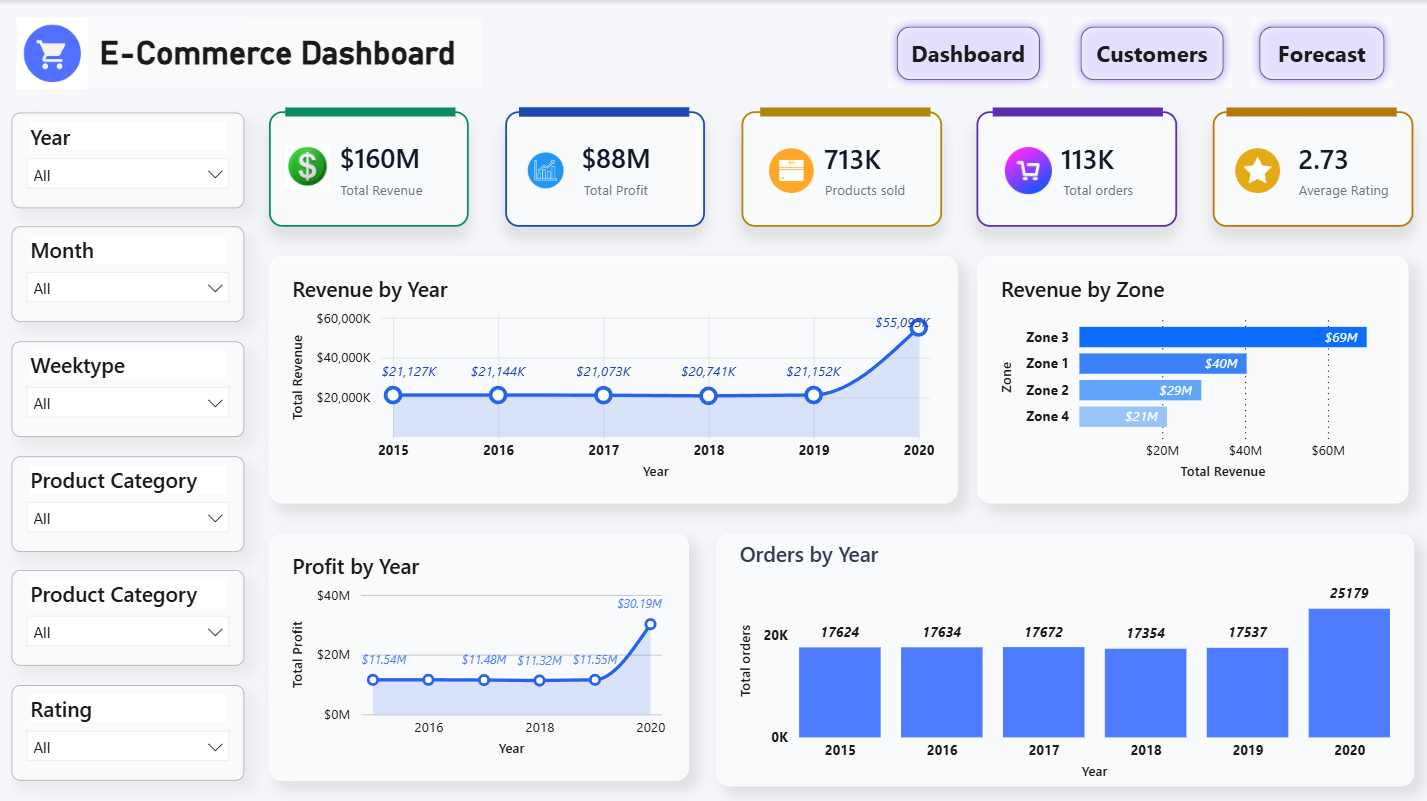

What the dashboard file says about the page in this screenshot:
{"tool":"powerbi","page":{"name":"Dashboard","canvas":[1280,720],"ordinal":0},"visuals":[{"type":"slicer","fields":{"Values":["Fact -Ecommerce.Rating"]},"box":[11.1,611.9,208.2,85.8],"z":0},{"type":"slicer","fields":{"Values":["Dim-category.Product Category"]},"box":[11.1,407.2,208.2,85.8],"z":1000},{"type":"slicer","fields":{"Values":["Dim Calendar.Weektype"]},"box":[11.1,304.8,208.2,85.8],"z":2000},{"type":"slicer","fields":{"Values":["Dim Calendar.Month"]},"box":[11.1,202.5,208.2,85.8],"z":3000},{"type":"slicer","fields":{"Values":["Dim Calendar.Year"]},"box":[11.1,100.1,208.2,85.8],"z":4000},{"type":"slicer","fields":{"Values":["Dim-category.Product Category"]},"box":[11.1,509.6,208.2,85.8],"z":5000},{"type":"card","fields":{"Values":["All Measures.Total Revenue"]},"box":[241,99.8,178.6,103],"z":6000},{"type":"card","fields":{"Values":["All Measures.Total Profit"]},"box":[452.1,99.8,178.6,103],"z":7000},{"type":"card","fields":{"Values":["All Measures.Total Products sold"]},"box":[662.7,99.9,178.9,103.1],"z":8000},{"type":"card","fields":{"Values":["All Measures.No.of orders"]},"box":[873.6,99.9,178.9,103.1],"z":9000},{"type":"card","fields":{"Values":["All Measures.Average Ratings"]},"box":[1084.5,99.9,178.9,103.1],"z":10000},{"type":"textbox","box":[16,16,416,64],"z":11000},{"type":"areaChart","title":"Revenue by Year","fields":{"Y":["All Measures.Total Revenue"],"Category":["Dim Calendar.Date.Variation.Date Hierarchy.Year","Dim Calendar.Date.Variation.Date Hierarchy.Quarter","Dim Calendar.Date.Variation.Date Hierarchy.Month","Dim Calendar.Date.Variation.Date Hierarchy.Day"]},"box":[241.7,228.8,615.6,220.8],"z":12000},{"type":"lineChart","title":" Profit by Year","fields":{"Y":["All Measures.Total Profit"],"Category":["Dim Calendar.Date.Variation.Date Hierarchy.Year","Dim Calendar.Date.Variation.Date Hierarchy.Quarter","Dim Calendar.Date.Variation.Date Hierarchy.Month","Dim Calendar.Date.Variation.Date Hierarchy.Day"]},"box":[241.4,476.4,375,220.5],"z":13000},{"type":"columnChart","title":" Orders by Year","fields":{"Category":["Dim Calendar.Date.Variation.Date Hierarchy.Year","Dim Calendar.Date.Variation.Date Hierarchy.Quarter","Dim Calendar.Date.Variation.Date Hierarchy.Month","Dim Calendar.Date.Variation.Date Hierarchy.Day"],"Y":["All Measures.Total orders"]},"box":[640.5,476.8,623,225.7],"z":14000},{"type":"actionButton","box":[958.2,16,144,64],"z":17000},{"type":"actionButton","box":[1118.2,16,128,64],"z":18000},{"type":"barChart","title":" Revenue by Zone","fields":{"Category":["Dim-customer.Zone"],"Y":["All Measures.Total Revenue"]},"box":[874.2,228.9,384.6,220.9],"z":19000},{"type":"actionButton","box":[794.3,16,144,64],"z":20000},{"type":"shape","box":[464,96,152,8],"z":21000},{"type":"shape","box":[680,96,152,8],"z":22000},{"type":"shape","box":[888,96,152,8],"z":23000},{"type":"shape","box":[1096,96,152,8],"z":24000},{"type":"shape","box":[256,96,152,8],"z":25000},{"type":"image","box":[16,16,64,64],"z":26000},{"type":"image","box":[256,128,40,40],"z":27000},{"type":"image","box":[472,136,32,32],"z":28000},{"type":"image","box":[688,128,40,48],"z":29000},{"type":"image","box":[896,128,48,48],"z":30000},{"type":"image","box":[1104,128,40,48],"z":31000}]}

Visuals, with their boxes in screenshot pixels (x1, y1, x2, y2), scaled from the page's 1280x720 canvas onto the 1427x801 screenshot:
slicer - Fact -Ecommerce.Rating: (12, 681, 244, 776)
slicer - Dim-category.Product Category: (12, 453, 244, 548)
slicer - Dim Calendar.Weektype: (12, 339, 244, 435)
slicer - Dim Calendar.Month: (12, 225, 244, 321)
slicer - Dim Calendar.Year: (12, 111, 244, 207)
slicer - Dim-category.Product Category: (12, 567, 244, 662)
card - All Measures.Total Revenue: (269, 111, 468, 226)
card - All Measures.Total Profit: (504, 111, 703, 226)
card - All Measures.Total Products sold: (739, 111, 938, 226)
card - All Measures.No.of orders: (974, 111, 1173, 226)
card - All Measures.Average Ratings: (1209, 111, 1408, 226)
textbox: (18, 18, 482, 89)
"Revenue by Year" areaChart: (269, 255, 956, 500)
" Profit by Year" lineChart: (269, 530, 687, 775)
" Orders by Year" columnChart: (714, 530, 1409, 782)
actionButton: (1068, 18, 1229, 89)
actionButton: (1247, 18, 1389, 89)
" Revenue by Zone" barChart: (975, 255, 1403, 500)
actionButton: (886, 18, 1046, 89)
shape: (517, 107, 687, 116)
shape: (758, 107, 928, 116)
shape: (990, 107, 1159, 116)
shape: (1222, 107, 1391, 116)
shape: (285, 107, 455, 116)
image: (18, 18, 89, 89)
image: (285, 142, 330, 187)
image: (526, 151, 562, 187)
image: (767, 142, 812, 196)
image: (999, 142, 1052, 196)
image: (1231, 142, 1275, 196)
